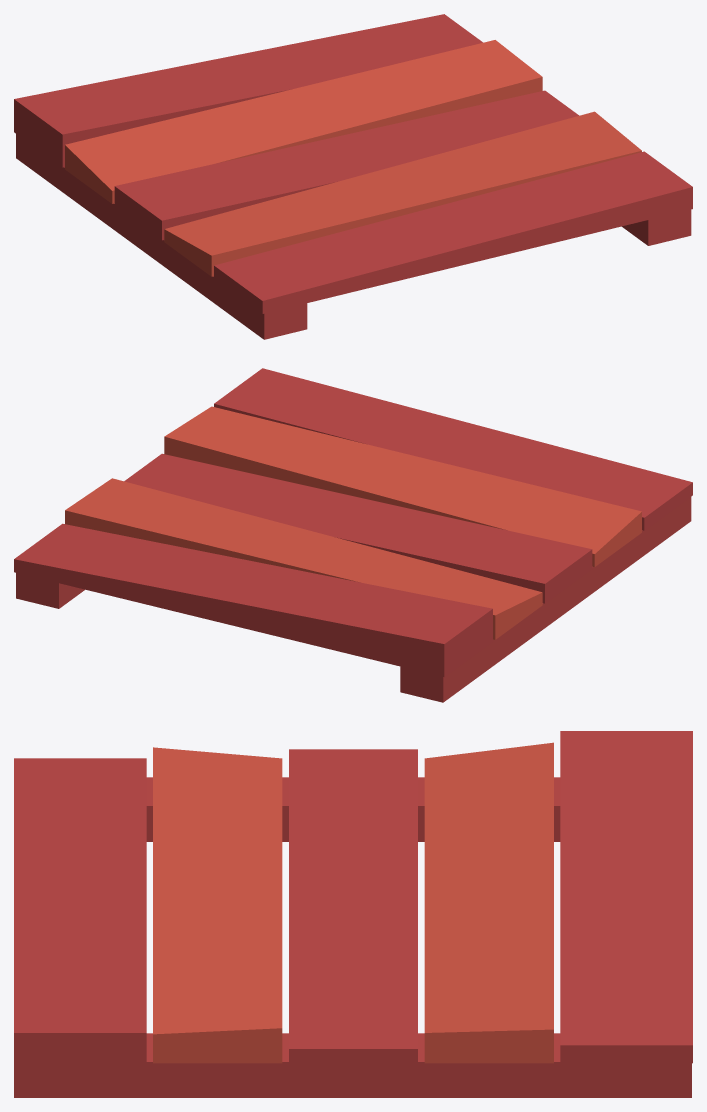
The model's file is PortWoodFloor_B.fbx.
The picture shows the model from 3 angles, top to bottom: view 1: azimuth 30°, elevation 25°; view 2: azimuth 150°, elevation 25°; view 3: azimuth 270°, elevation 25°; orthographic projection. The views are drawn at different scales.
Parts seen in each view (by area): view 1: PortWoodFloor_B; view 2: PortWoodFloor_B; view 3: PortWoodFloor_B.
Part boxes in pixels (left/top/right/bottom): PortWoodFloor_B: left=14, top=14, right=692, bottom=339; PortWoodFloor_B: left=14, top=368, right=692, bottom=702; PortWoodFloor_B: left=14, top=731, right=692, bottom=1097.
Bounding box in the file's own units: 94.89 × 12.49 × 94.89.
Materials: 1 (1 with a texture image).
